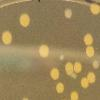yellow: (36, 44, 49, 59), (19, 13, 30, 27), (1, 30, 11, 45), (89, 3, 100, 16), (49, 66, 58, 81), (87, 71, 96, 86), (83, 32, 93, 45), (55, 80, 64, 94), (84, 46, 94, 58), (64, 7, 73, 20), (80, 77, 89, 90), (64, 62, 73, 75), (74, 61, 82, 74), (70, 90, 79, 100), (92, 59, 100, 70), (70, 72, 78, 80), (22, 96, 29, 100)
